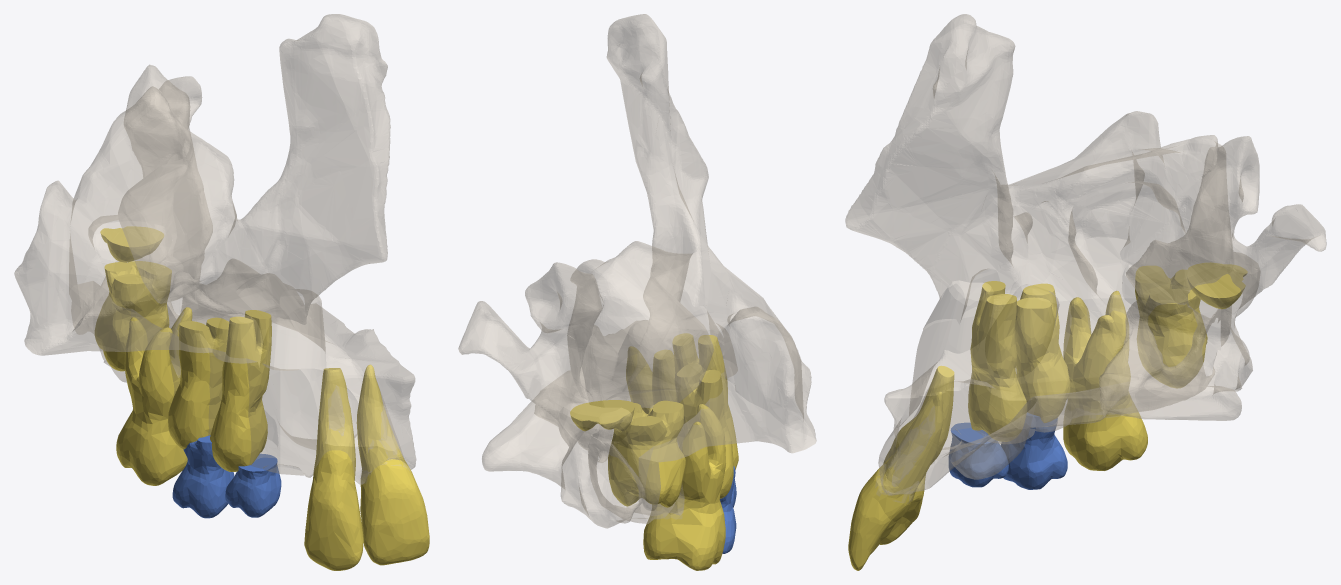
Rendered from removal-later.glb.
The picture shows the model from 3 angles, left to right: view 1: azimuth 30°, elevation 25°; view 2: azimuth 150°, elevation 25°; view 3: azimuth 270°, elevation 25°; orthographic projection. The views are drawn at different scales.
Visible parts, largest first — view 1: bone, teeth, baby-teeth; view 2: bone, teeth, baby-teeth; view 3: bone, teeth, baby-teeth.
Part boxes in pixels (bbox=[...]): bone: bbox=[14, 14, 416, 484]; teeth: bbox=[94, 226, 429, 570]; baby-teeth: bbox=[172, 435, 281, 518]; bone: bbox=[458, 14, 816, 528]; teeth: bbox=[570, 333, 738, 570]; baby-teeth: bbox=[720, 466, 736, 553]; bone: bbox=[845, 14, 1326, 503]; teeth: bbox=[848, 262, 1247, 570]; baby-teeth: bbox=[948, 413, 1067, 489].
Bounding box in the file's own units: 0.0451 × 0.0795 × 0.0637.
